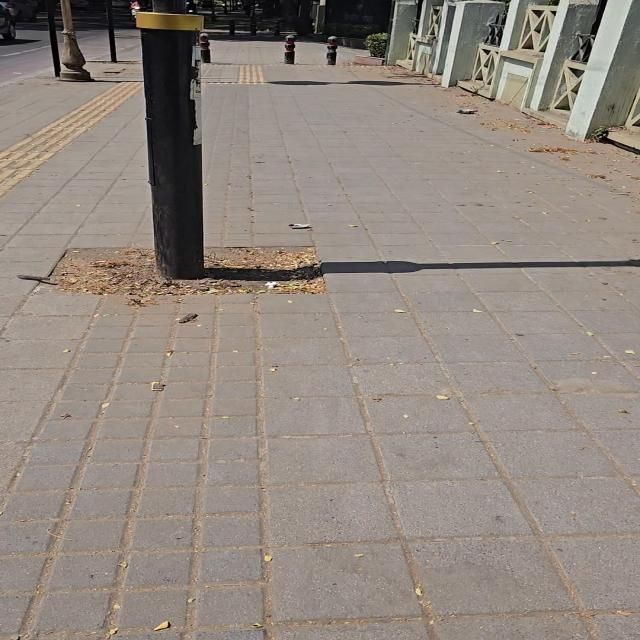obstacle: (137, 0, 204, 279), (60, 0, 91, 81), (46, 0, 60, 77), (106, 0, 117, 62), (284, 35, 295, 64), (327, 37, 338, 65), (200, 33, 210, 63), (200, 33, 210, 62), (250, 6, 257, 36), (250, 11, 257, 36), (274, 21, 281, 36), (229, 20, 235, 36)
